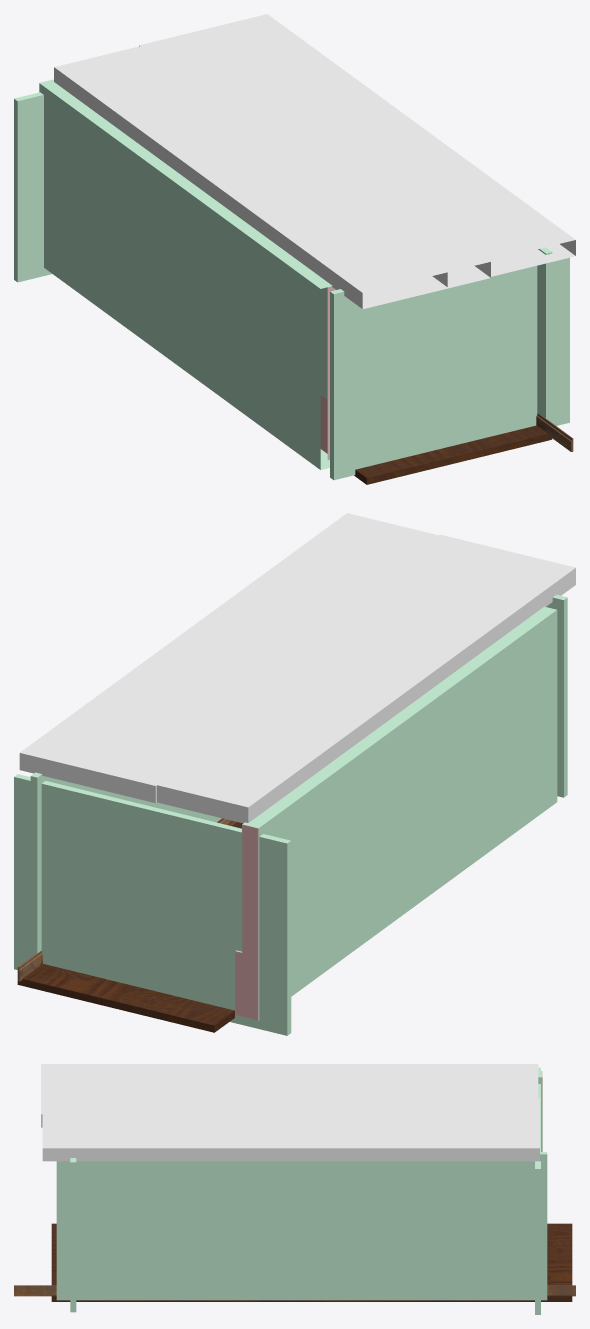
The model's file is corridor.fbx.
3 views of the same model, one above another, from view 1: azimuth 30°, elevation 25°; view 2: azimuth 150°, elevation 25°; view 3: azimuth 270°, elevation 25° (orthographic). The views are drawn at different scales.
Parts seen in each view (by area): view 1: Wall_left_Cube.003, Cieling_Cube.001, Cieling_Cube.004, Wall_right_Cube.003, Wall_right_Cube.001, Floor_Cube.001, Wall_right_Cube.002; view 2: Wall_left_Cube.003, Wall_right_Cube.001, Cieling_Cube.001, Cieling_Cube.004, Floor_Cube.001, Wall_right_Cube.002, Wall_right_Cube.003; view 3: Wall_right_Cube.002, Cieling_Cube.001, Cieling_Cube.004, Floor_Cube.001, Wall_right_Cube.003, Wall_right_Cube.001, baseboard_Cube.006.
Part boxes in pixels (bbox=[...]): Wall_left_Cube.003: bbox=[39, 79, 335, 469]; Cieling_Cube.001: bbox=[139, 14, 575, 287]; Cieling_Cube.004: bbox=[54, 36, 490, 308]; Wall_right_Cube.003: bbox=[330, 257, 569, 480]; Wall_right_Cube.001: bbox=[14, 92, 51, 282]; Floor_Cube.001: bbox=[354, 425, 552, 484]; Wall_right_Cube.002: bbox=[537, 247, 552, 422]; Wall_left_Cube.003: bbox=[235, 606, 557, 1020]; Wall_right_Cube.001: bbox=[14, 774, 291, 1035]; Cieling_Cube.001: bbox=[19, 513, 482, 803]; Cieling_Cube.004: bbox=[115, 534, 575, 823]; Floor_Cube.001: bbox=[17, 822, 242, 1032]; Wall_right_Cube.002: bbox=[30, 772, 221, 956]; Wall_right_Cube.003: bbox=[546, 594, 567, 797]; Wall_right_Cube.002: bbox=[56, 1152, 547, 1300]; Cieling_Cube.001: bbox=[42, 1098, 539, 1161]; Cieling_Cube.004: bbox=[41, 1064, 538, 1127]; Floor_Cube.001: bbox=[51, 1223, 572, 1301]; Wall_right_Cube.003: bbox=[70, 1158, 76, 1312]; Wall_right_Cube.001: bbox=[535, 1067, 540, 1314]; baseboard_Cube.006: bbox=[14, 1285, 575, 1296].
Bounding box in the file's own units: 3210 × 2377 × 7346.
